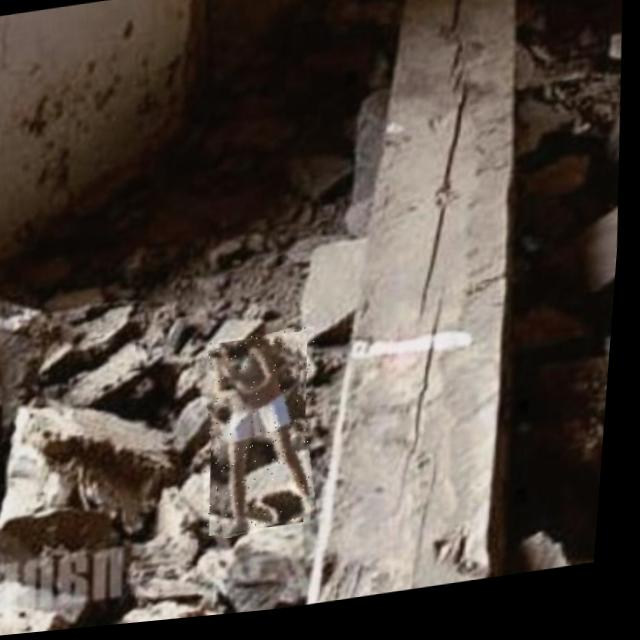Person in Rubble: (202, 332, 331, 545)
